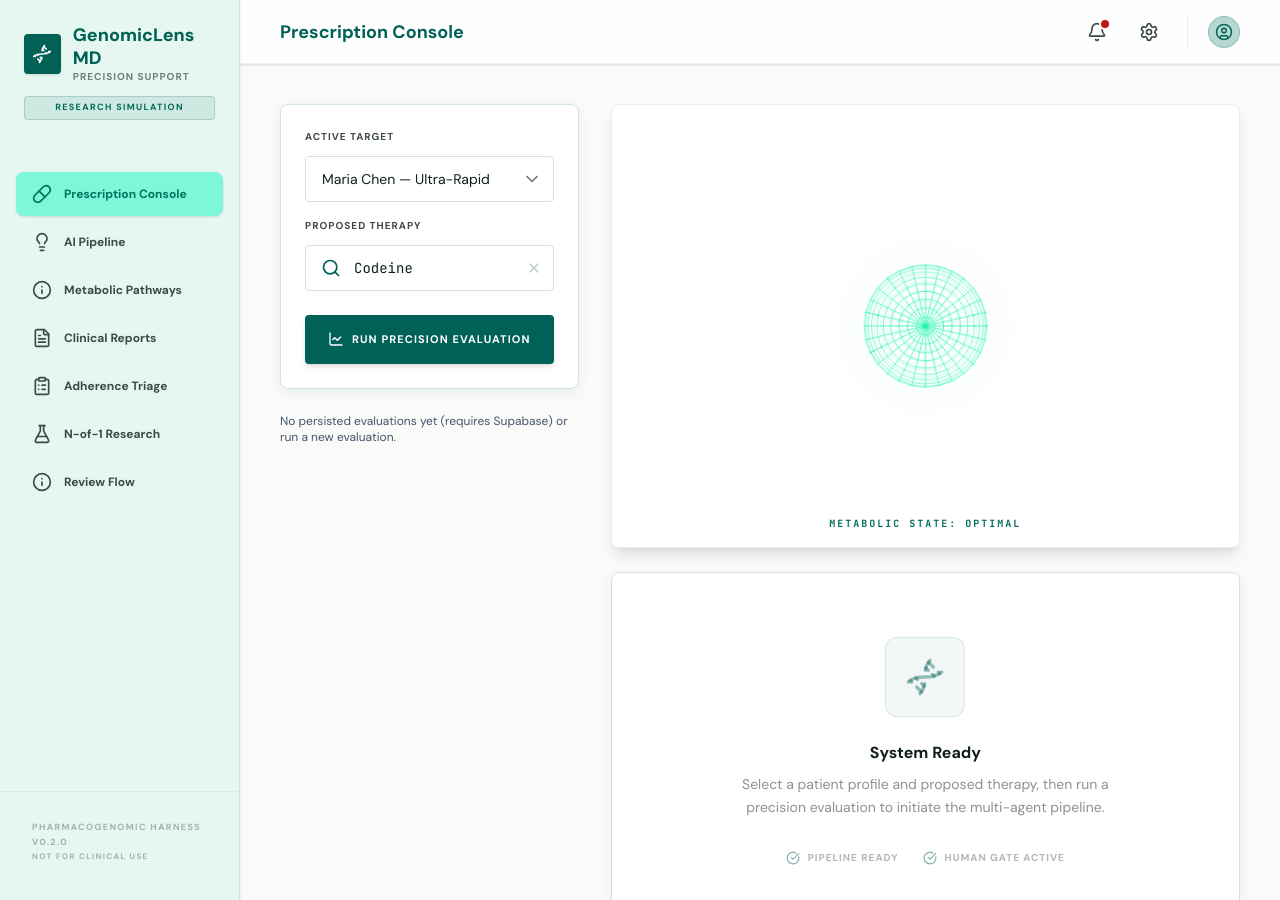
Test: Home Page › disables evaluation button when medication is empty
Clear the field with placeholder "Scan drug database..." at (429, 268), box [305,245,554,291]
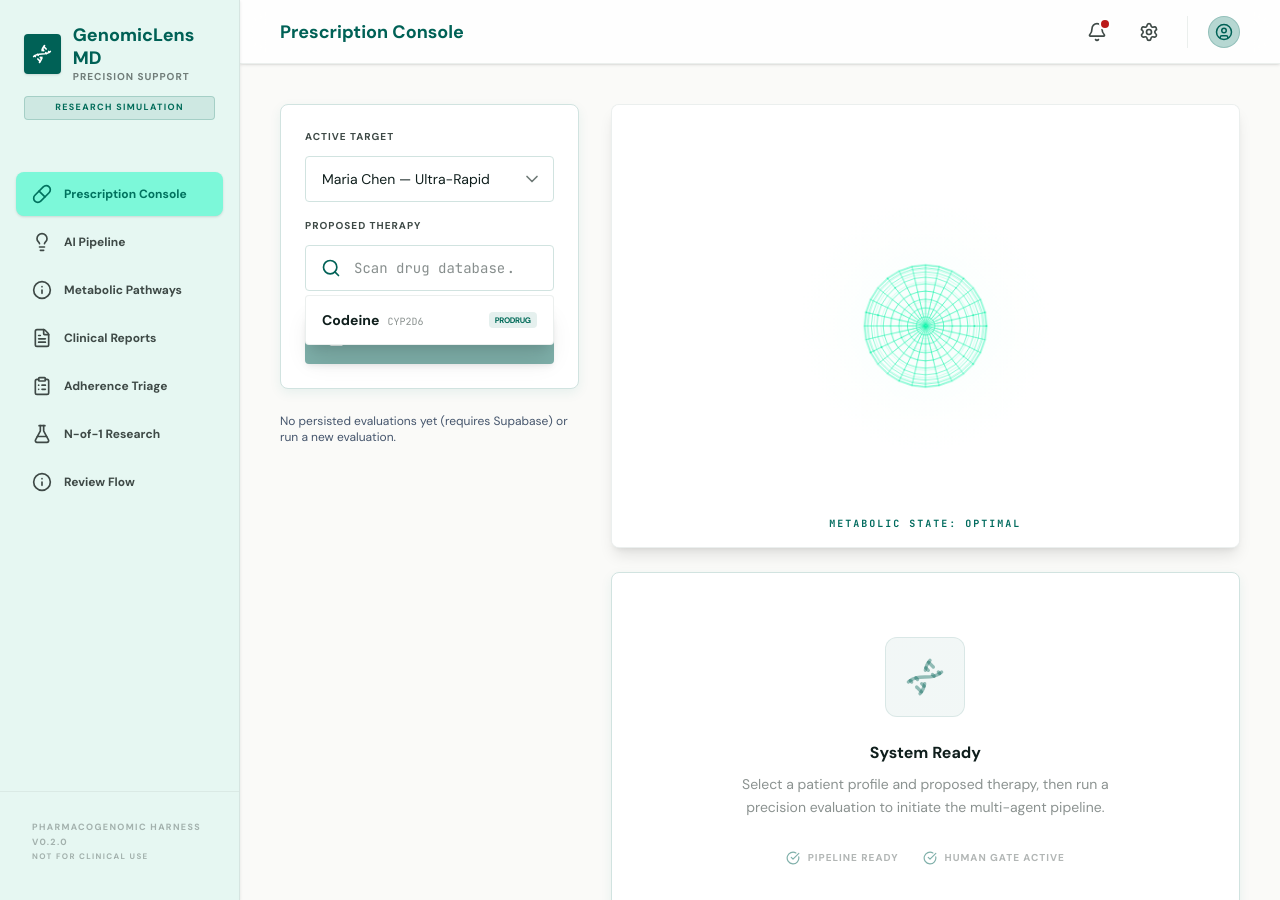
Check: the button "Run Precision Evaluation" is disabled, box [305,315,554,364]
